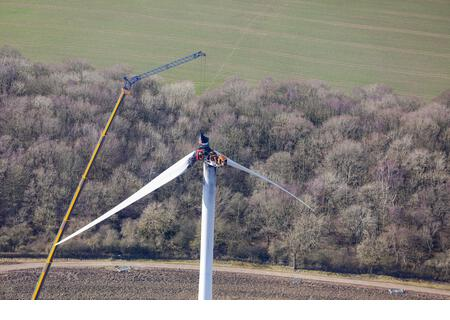faulty: (155, 129, 251, 294)
